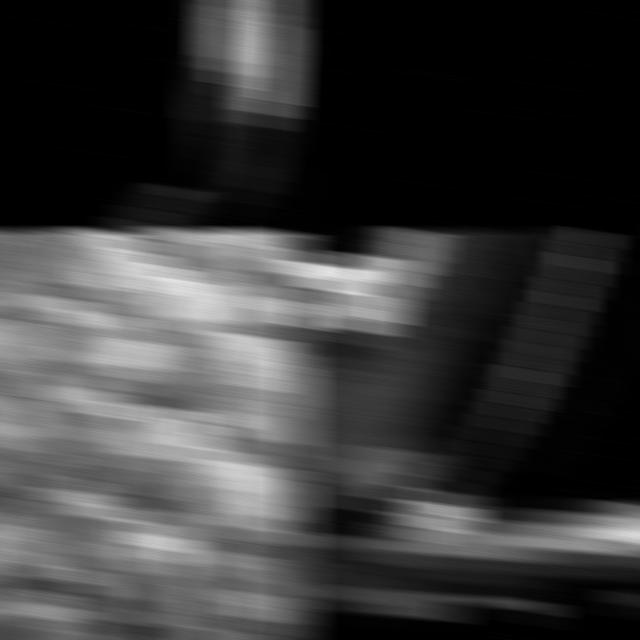Airbag: (290, 229, 640, 640), (0, 229, 309, 640), (0, 0, 309, 231)
